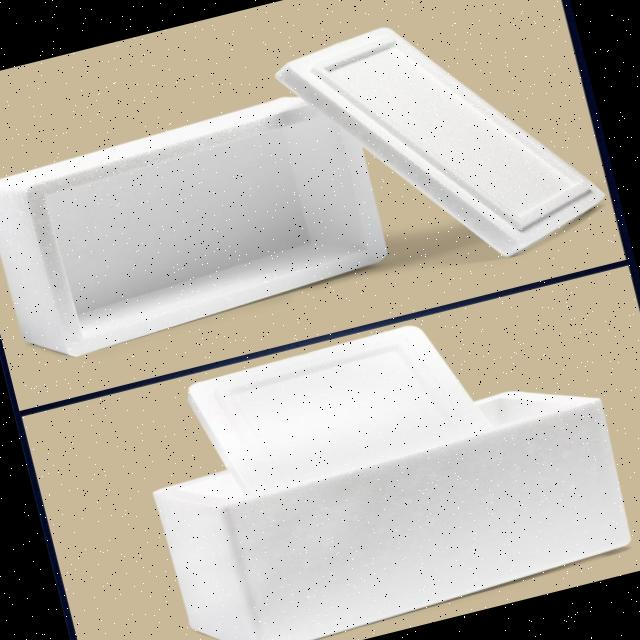styrofoam: (126, 282, 640, 640), (0, 78, 396, 368), (267, 0, 614, 302)
